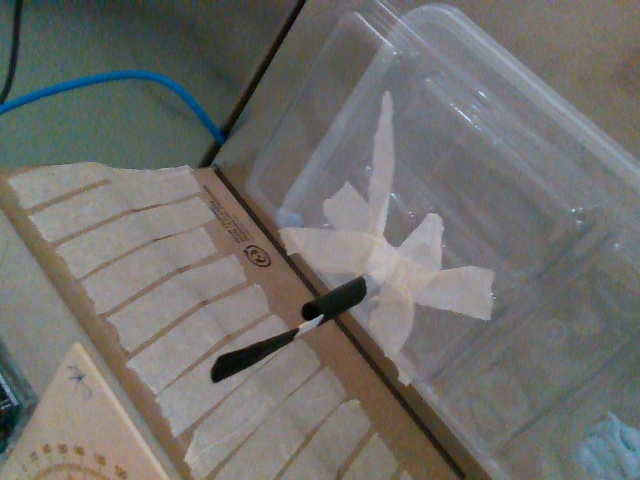test_strip: (208, 315, 326, 383)
